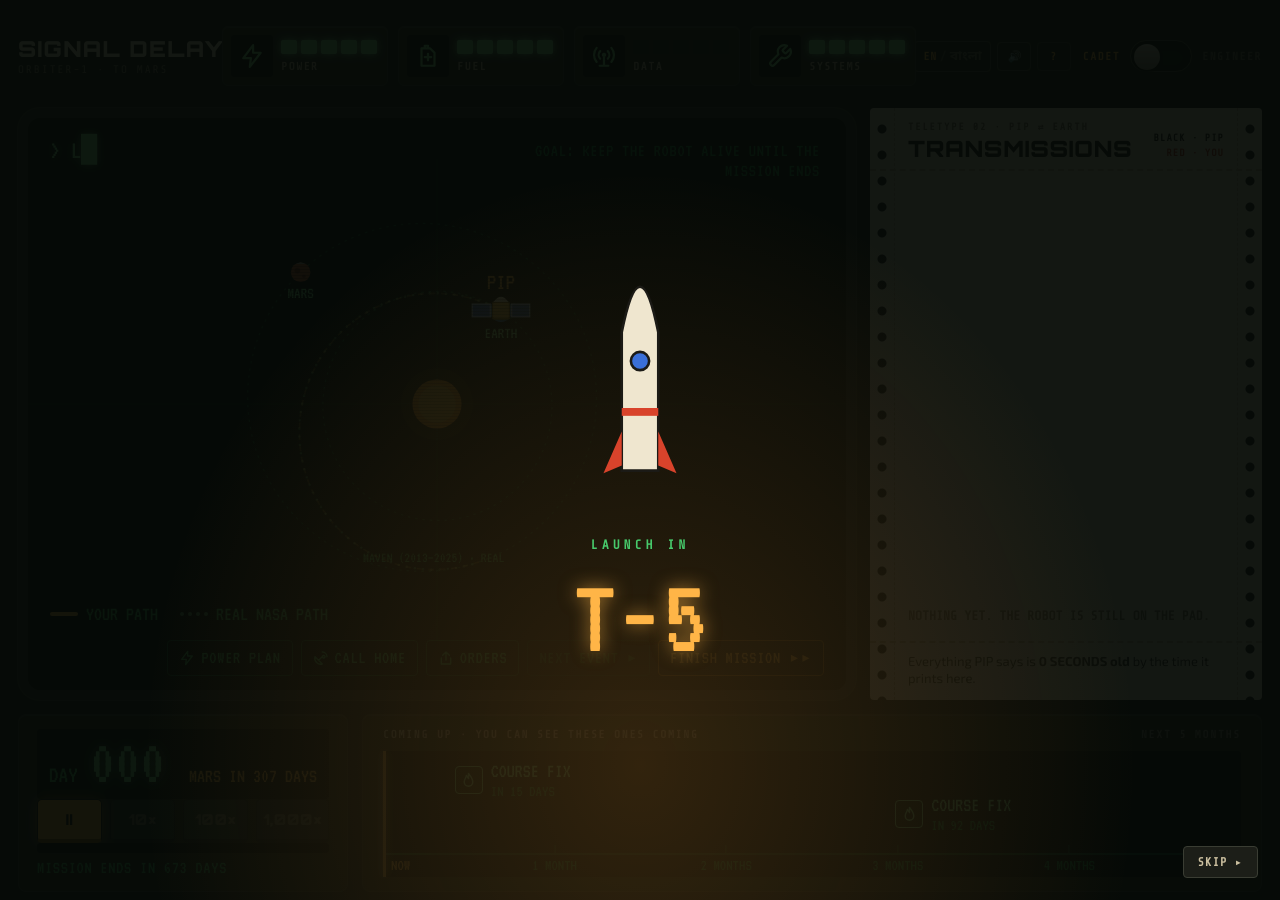
Test case: launch countdown › the first-flight coach waits until the rocket is up
Click the button "SKIP ▸": (1220, 862) 1183,846 -> 1258,878
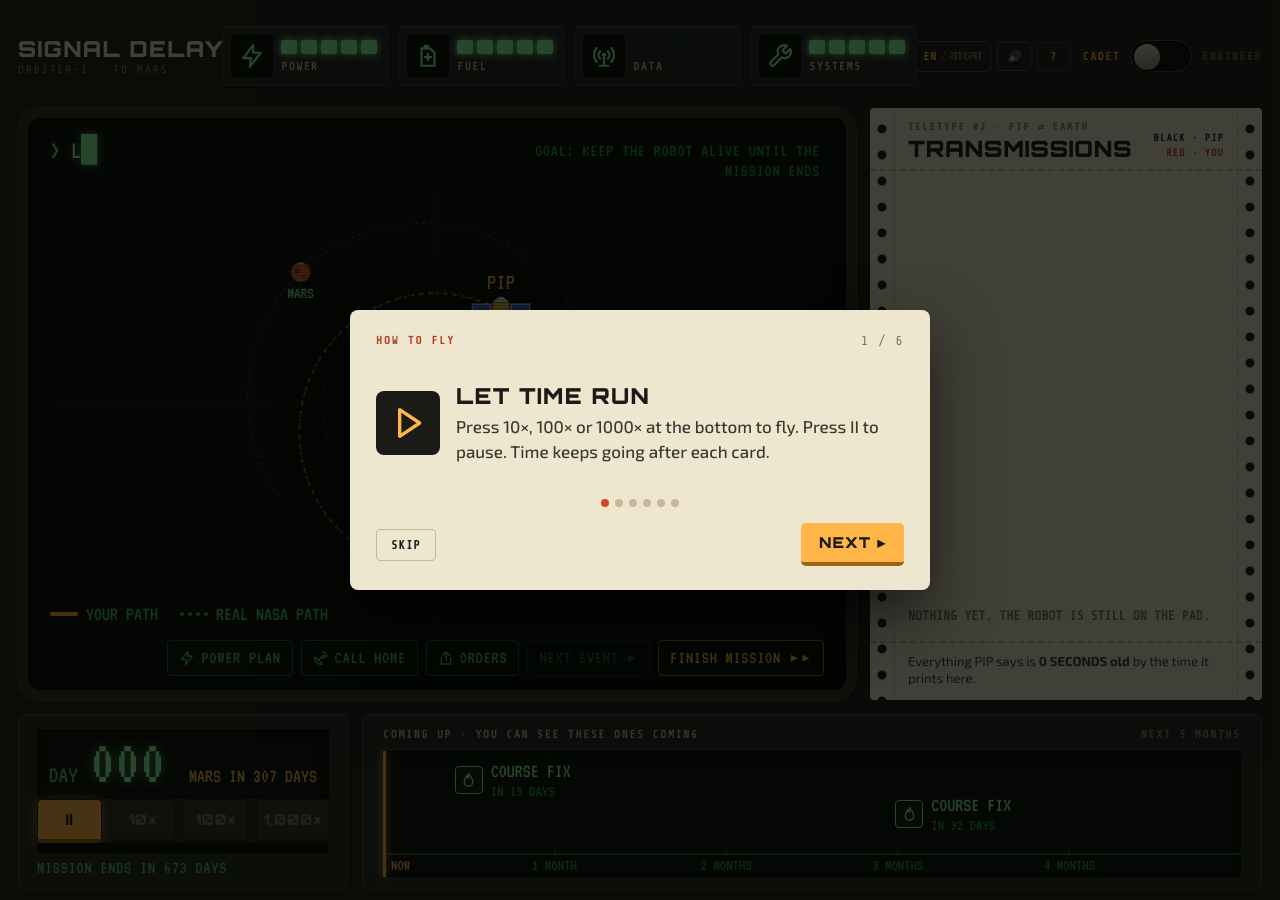
Expected: the dialog is shown
